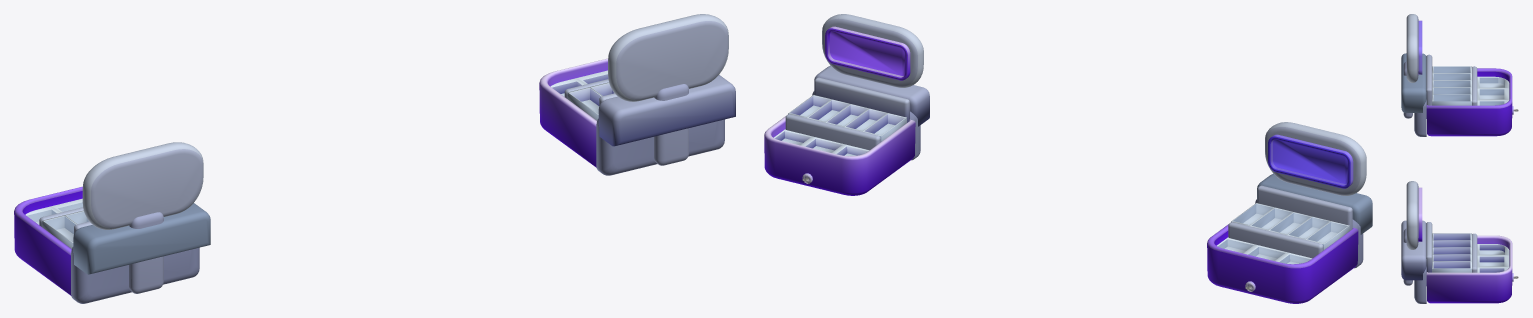
File: cashierrun_moneycase.double.fbx
3 views of the same model, side by side, from view 1: azimuth 30°, elevation 25°; view 2: azimuth 150°, elevation 25°; view 3: azimuth 270°, elevation 25° (orthographic). The views are drawn at different scales.
Visible parts, largest first — view 1: cashierrun_case.003, cashierrun_case.002, cashierrun_case_countmeter.003, cashierrun_case_countmeter.002; view 2: cashierrun_case.003, cashierrun_case.002, cashierrun_case_countmeter.002, cashierrun_case_countmeter.003; view 3: cashierrun_case.002, cashierrun_case.003, cashierrun_case_countmeter.002, cashierrun_case_countmeter.003.
Part boxes in pixels (left/top/right/bottom): cashierrun_case.003: left=14, top=186, right=210, bottom=303; cashierrun_case.002: left=539, top=58, right=735, bottom=175; cashierrun_case_countmeter.003: left=82, top=142, right=203, bottom=293; cashierrun_case_countmeter.002: left=608, top=14, right=728, bottom=165; cashierrun_case.003: left=1207, top=173, right=1372, bottom=303; cashierrun_case.002: left=764, top=65, right=929, bottom=195; cashierrun_case_countmeter.002: left=822, top=14, right=923, bottom=87; cashierrun_case_countmeter.003: left=1265, top=122, right=1366, bottom=195; cashierrun_case.002: left=1401, top=220, right=1518, bottom=303; cashierrun_case.003: left=1401, top=53, right=1518, bottom=136; cashierrun_case_countmeter.002: left=1403, top=181, right=1422, bottom=285; cashierrun_case_countmeter.003: left=1403, top=14, right=1422, bottom=118.
Bounding box in the file's own units: 19.17 × 4.06 × 4.6.
